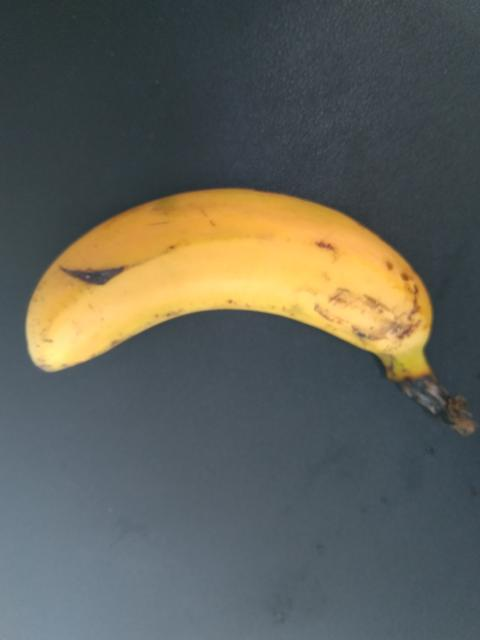ripe: (17, 166, 460, 403)
